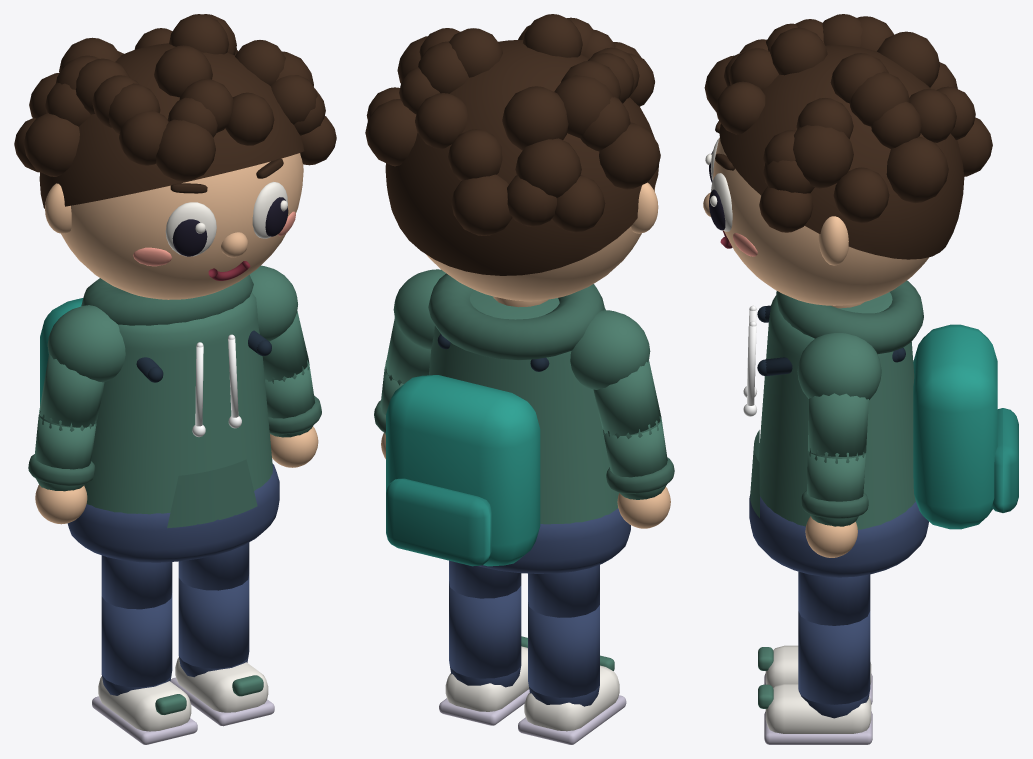
File: ch_passer_student.fbx
The picture shows the model from 3 angles, left to right: view 1: azimuth 30°, elevation 25°; view 2: azimuth 150°, elevation 25°; view 3: azimuth 270°, elevation 25°; orthographic projection. The views are drawn at different scales.
Visible parts, largest first — view 1: ch_passer_student; view 2: ch_passer_student; view 3: ch_passer_student.
Boxes of the visible parts, bbox=[...] form: ch_passer_student: bbox=[14, 14, 336, 744]; ch_passer_student: bbox=[365, 14, 674, 744]; ch_passer_student: bbox=[703, 14, 1018, 744].
Size of the model in its own units: 0.6661 by 1.51 by 0.6348.
